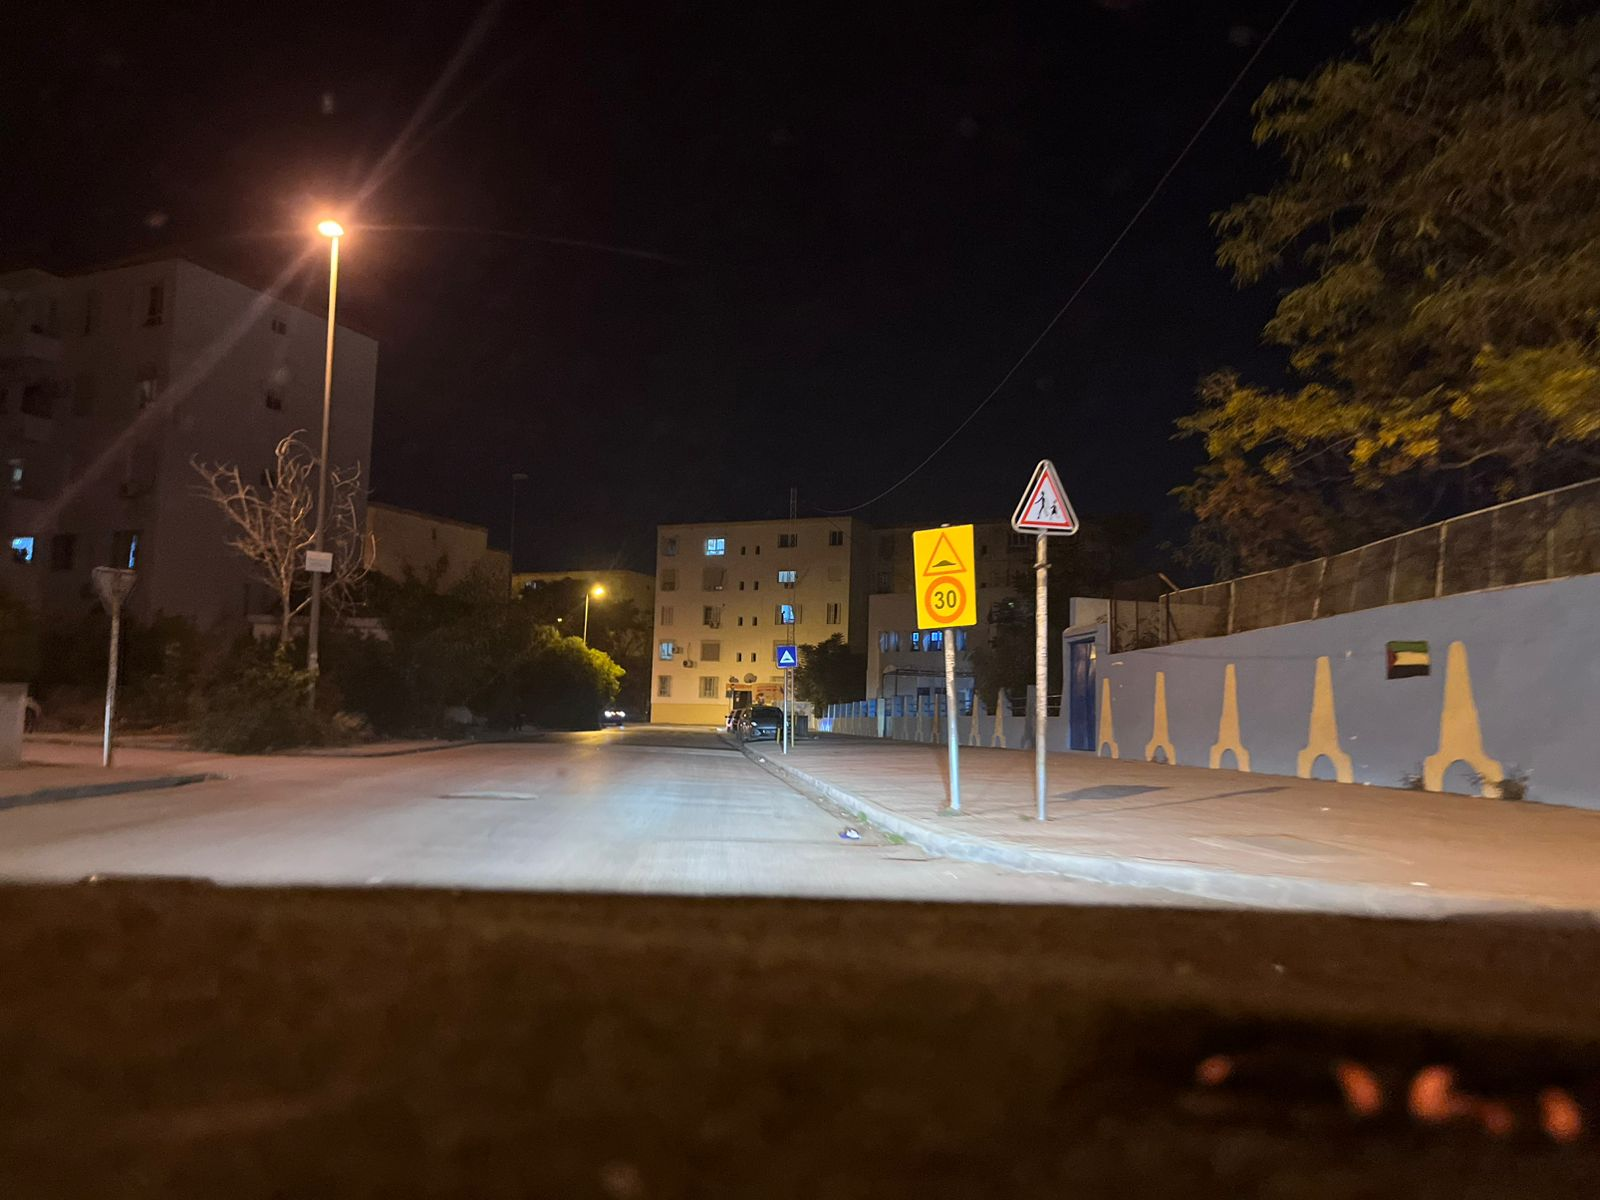SpeedLimit30: (912, 523, 979, 630)
